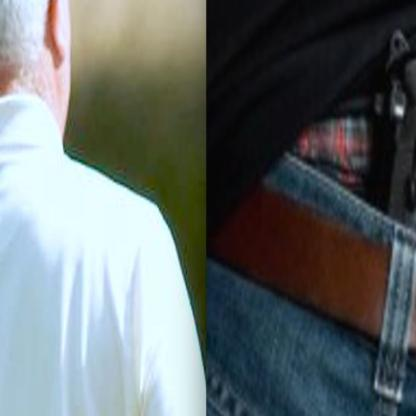gun: (359, 0, 415, 311)
